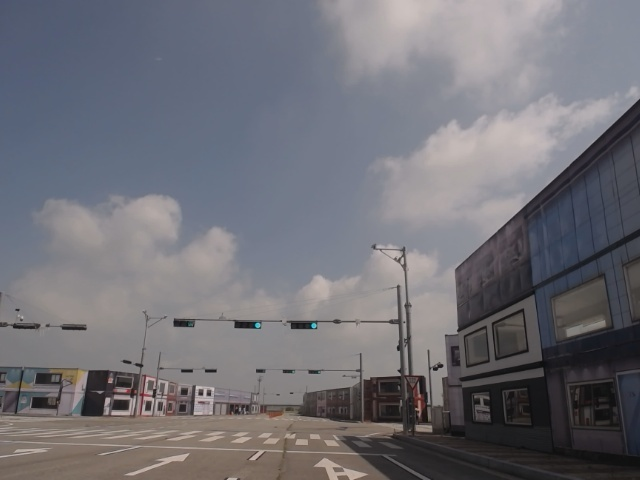straight_green_4: (234, 318, 263, 329), (290, 321, 320, 329)
